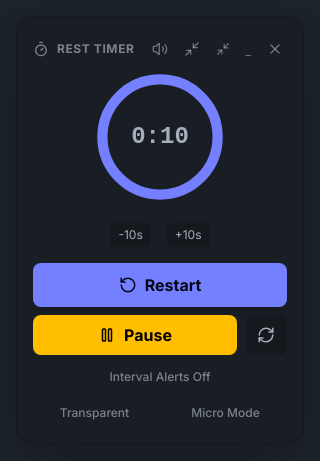
Test case: RestTimer › should pause when pause button is clicked
The width and height of the screenshot is (320, 461).
Click the button "Pause": x=135, y=335 [33,315,237,355]
Wait 2000 ms
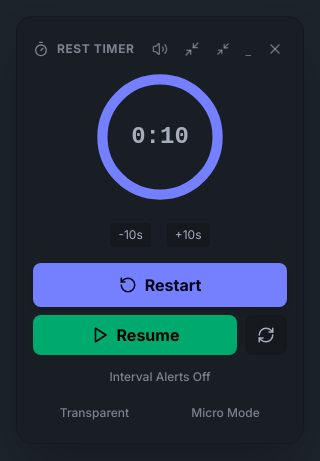
Expected: the text "0:10" is shown, [131,121,189,153]
Note: Resume should work
Click the button "Resume": x=135, y=335 [33,315,237,355]
Wait 1000 ms
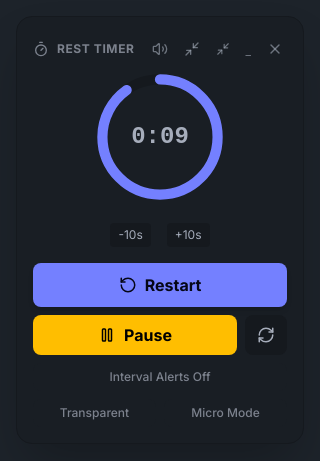
Result: the text "0:09" is shown at [131,121,189,153]
